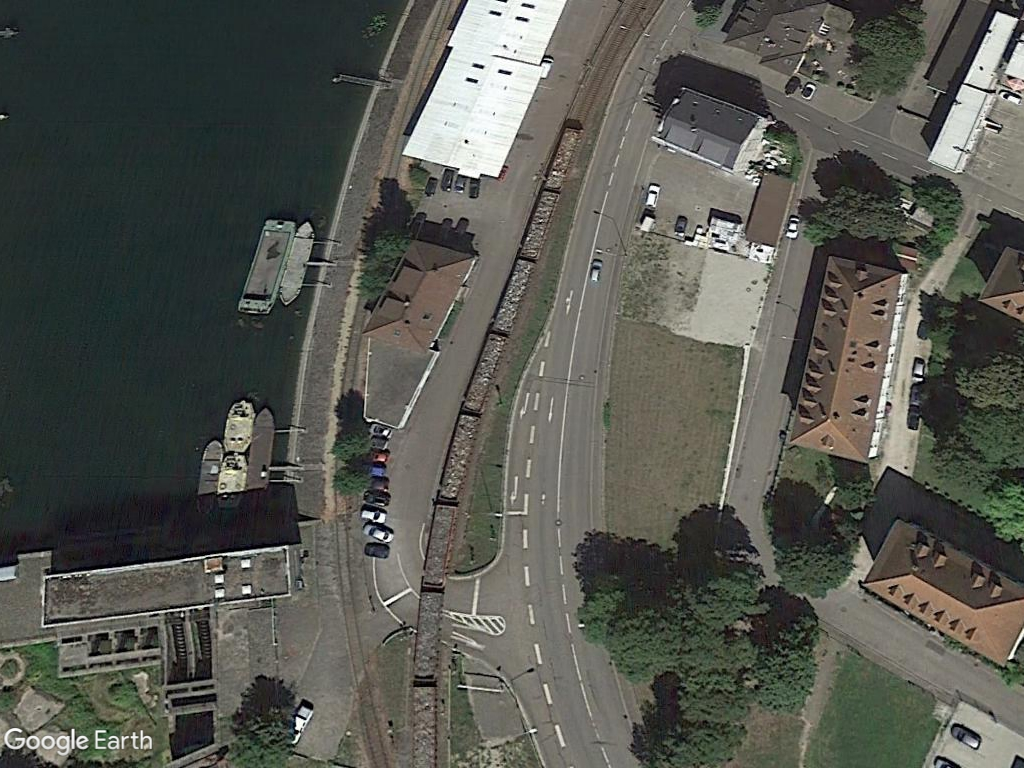boat: (273, 208, 326, 313), (219, 390, 258, 455)
car: (947, 720, 988, 750)
